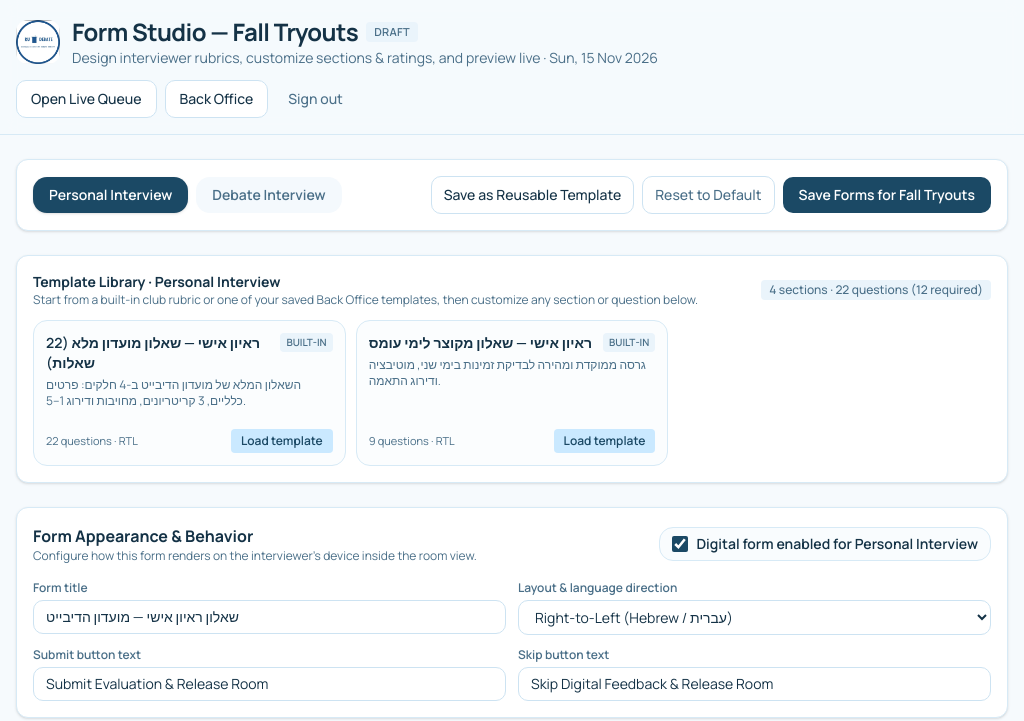
Scenario: FormStudio — Back Office Form Builder › loads the event form studio with Personal and Debate tabs and live preview
Check: the heading "Form Studio — Fall Tryouts" is shown, box 72,16 -> 358,48
Switch to Debate Interview tab
Click the tab "Debate Interview".
click(269, 195)  # box 196,177 -> 342,213
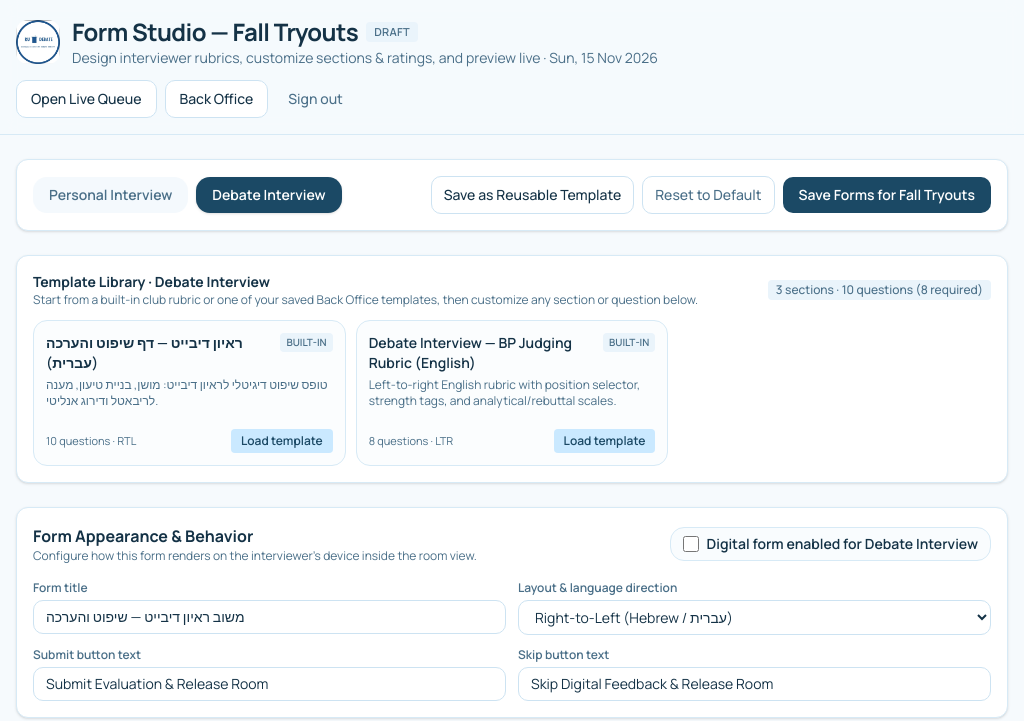
Check: the tab "Debate Interview" is selected, box 196,177 -> 342,213
Enable the Debate Interview digital form
Click the checkbox labelled "Digital form enabled for Debate Interview".
click(690, 544)  # box 682,536 -> 698,552
(page scrolled)
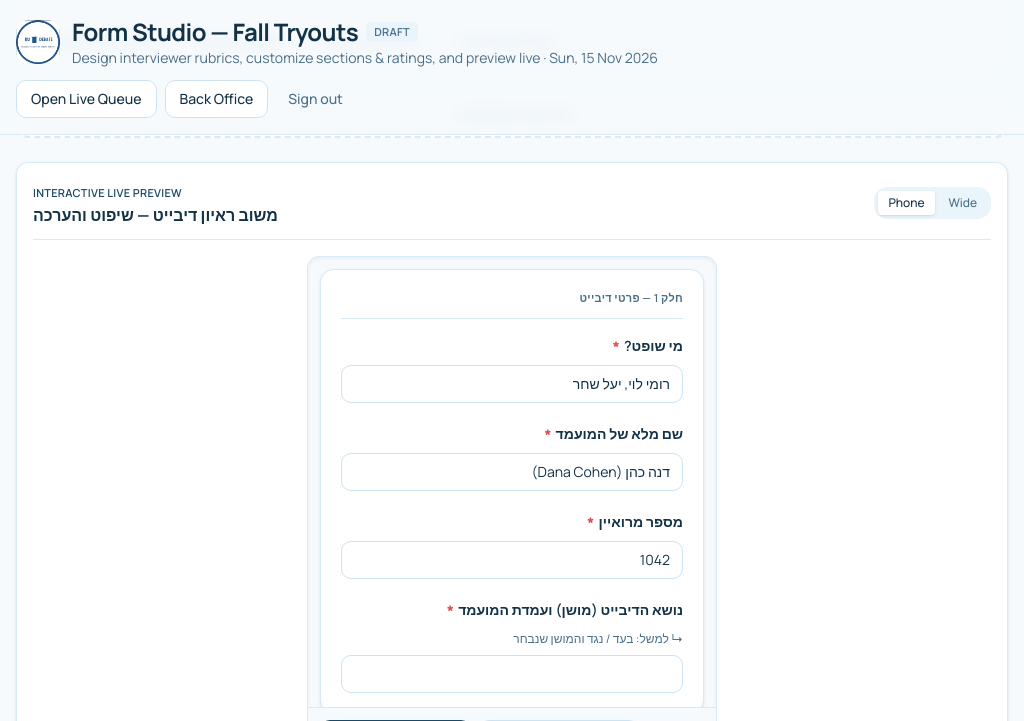
Check: the field labelled "מי שופט?" is shown, box 341,365 -> 683,403
